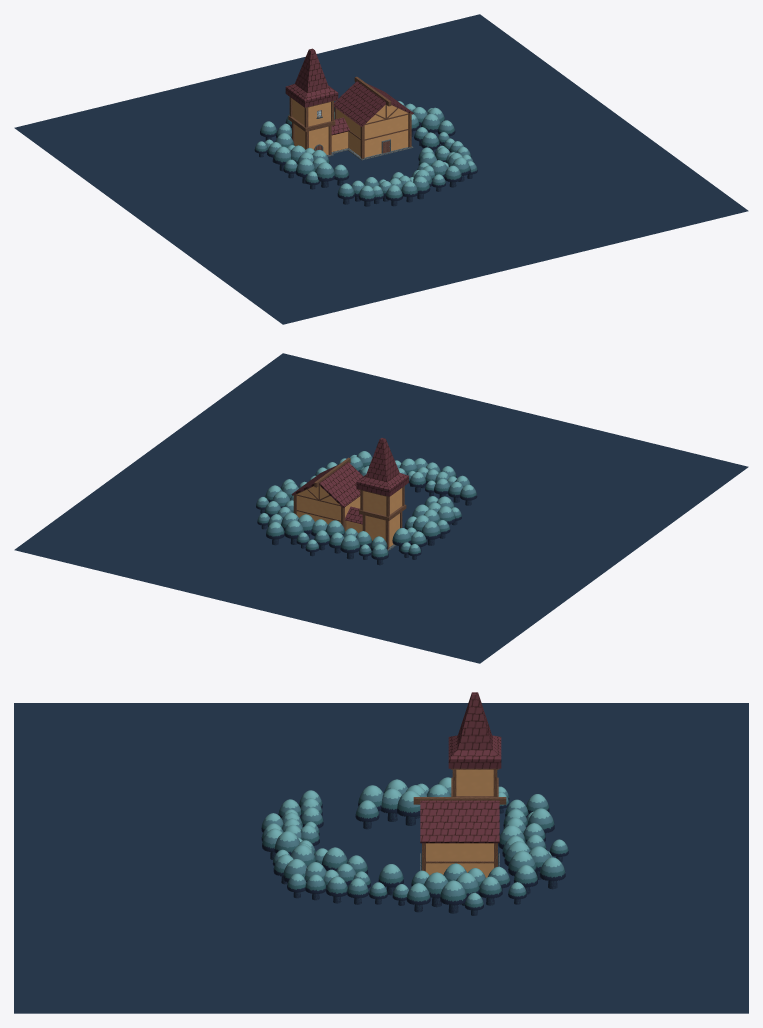
The model's file is Library Area.glb.
The picture shows the model from 3 angles, top to bottom: view 1: azimuth 30°, elevation 25°; view 2: azimuth 150°, elevation 25°; view 3: azimuth 270°, elevation 25°; orthographic projection. The views are drawn at different scales.
Parts seen in each view (by area): view 1: Ground, Walls.004, Roof.005, Roof.004, Tower.001; view 2: Ground, Roof.005, Roof.004, Tower.001, Walls.004; view 3: Ground, Roof.004, Roof.005, Walls.004, Tower.001, Placeholder Tree.1004, Placeholder Tree.958, Placeholder Tree.1022.
Part boxes in pixels (x1,y1,x2,y2): Ground: (14,14,748,324); Walls.004: (337,105,408,157); Roof.005: (285,48,338,107); Roof.004: (334,81,413,126); Tower.001: (292,99,330,154); Ground: (14,353,748,663); Roof.005: (356,438,408,496); Roof.004: (291,462,363,507); Tower.001: (363,488,402,547); Walls.004: (297,486,360,531); Ground: (14,703,748,1013); Roof.004: (420,800,499,843); Roof.005: (448,692,501,768); Walls.004: (426,843,493,877); Tower.001: (456,769,493,795); Placeholder Tree.1004: (440,880,466,913); Placeholder Tree.958: (397,790,420,825); Placeholder Tree.1022: (539,857,565,889).
Size of the model in its own units: 100 by 21.5 by 100.
9 materials, 7 textured.
